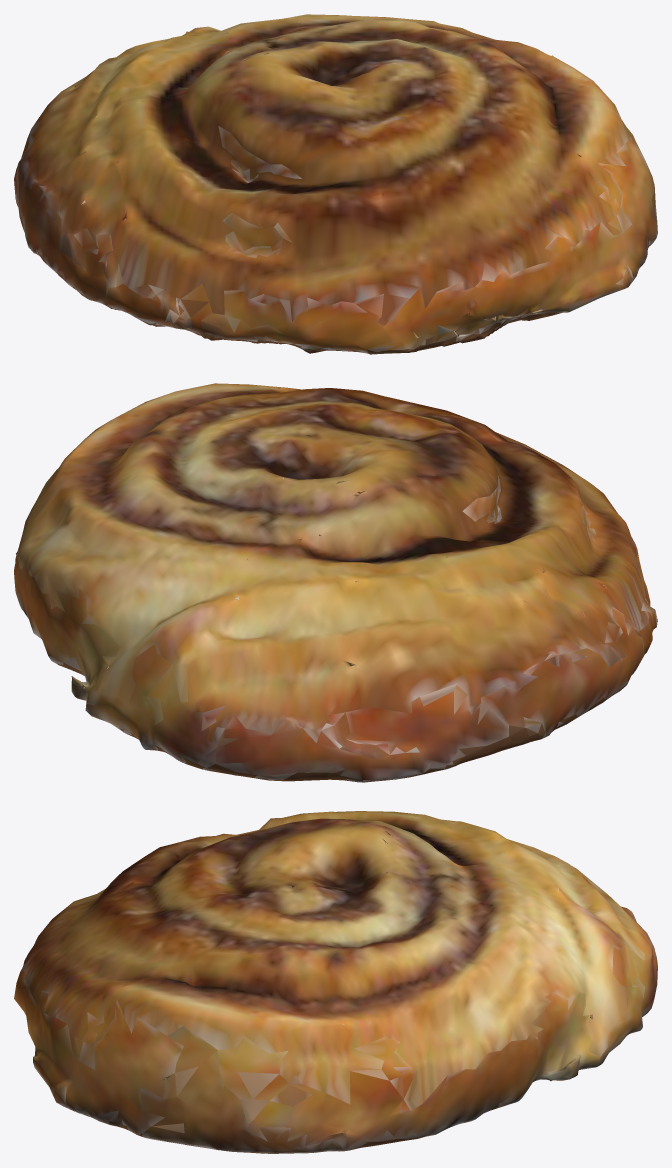
The model's file is cinnamon_5278.obj.
The picture shows the model from 3 angles, top to bottom: view 1: azimuth 30°, elevation 25°; view 2: azimuth 150°, elevation 25°; view 3: azimuth 270°, elevation 25°; orthographic projection. The views are drawn at different scales.
Size of the model in its own units: 110 by 33.98 by 115.
1 material, 1 textured.
